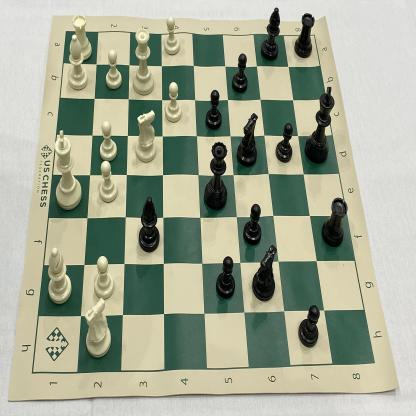black-bishop: (137, 193, 162, 255), (260, 4, 282, 62)
black-king: (303, 83, 335, 166)
black-knight: (251, 241, 280, 304), (236, 110, 260, 169)
black-pawn: (295, 302, 320, 350), (241, 201, 263, 248), (230, 49, 251, 96), (204, 88, 225, 131), (275, 121, 295, 166), (217, 254, 236, 300)
black-queen: (203, 140, 230, 213)
black-rook: (319, 193, 348, 248), (294, 9, 316, 62)
white-bishop: (44, 244, 74, 307), (67, 32, 89, 92)
white-king: (50, 126, 86, 211)
white-knight: (85, 295, 113, 360), (133, 107, 160, 167)
white-pawn: (96, 159, 119, 207), (93, 253, 115, 300), (161, 13, 182, 58), (163, 78, 183, 125), (103, 47, 124, 91), (97, 119, 118, 162)
white-queen: (131, 25, 157, 97)
white-rook: (71, 10, 92, 62)
